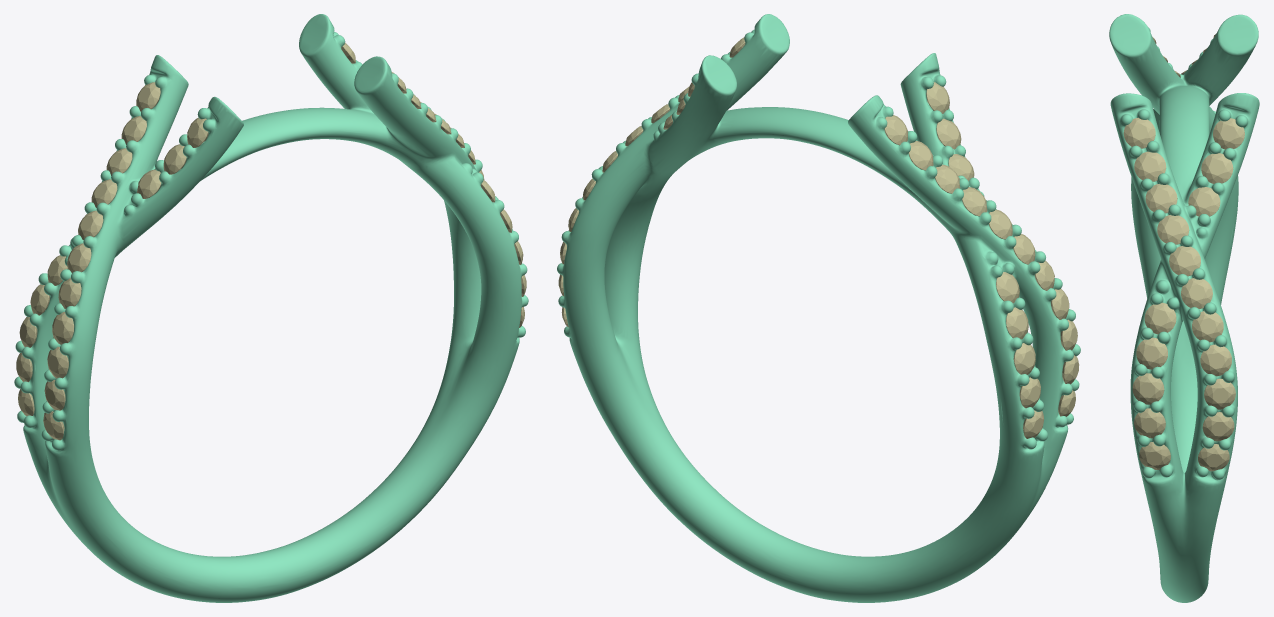
The picture shows the model from 3 angles, left to right: view 1: azimuth 30°, elevation 25°; view 2: azimuth 150°, elevation 25°; view 3: azimuth 270°, elevation 25°; orthographic projection. The views are drawn at different scales.
Parts seen in each view (by area): view 1: Metal02; view 2: Metal02; view 3: Metal02, Diamond_Gem, Diamond_Gem.002, Diamond_Gem.006, Diamond_Gem.011, Diamond_Gem.014, Diamond_Gem.003, Diamond_Gem.010, Diamond_Gem.005, Diamond_Gem.015, Diamond_Gem.008, Diamond_Gem.009 (+8 smaller).
Boxes of the visible parts, x1,y1,x2,y2 form: Metal02: [14, 14, 528, 602]; Metal02: [557, 14, 1080, 602]; Metal02: [1109, 14, 1259, 602]; Diamond_Gem: [1136, 337, 1167, 369]; Diamond_Gem.002: [1144, 302, 1176, 334]; Diamond_Gem.006: [1201, 153, 1233, 183]; Diamond_Gem.011: [1200, 344, 1231, 376]; Diamond_Gem.014: [1181, 278, 1212, 308]; Diamond_Gem.003: [1132, 373, 1164, 404]; Diamond_Gem.010: [1169, 246, 1200, 276]; Diamond_Gem.005: [1213, 118, 1244, 149]; Diamond_Gem.015: [1192, 311, 1223, 342]; Diamond_Gem.008: [1123, 117, 1155, 148]; Diamond_Gem.009: [1134, 151, 1166, 181].
Size of the model in its own units: 21.17 by 22.66 by 5.88.
